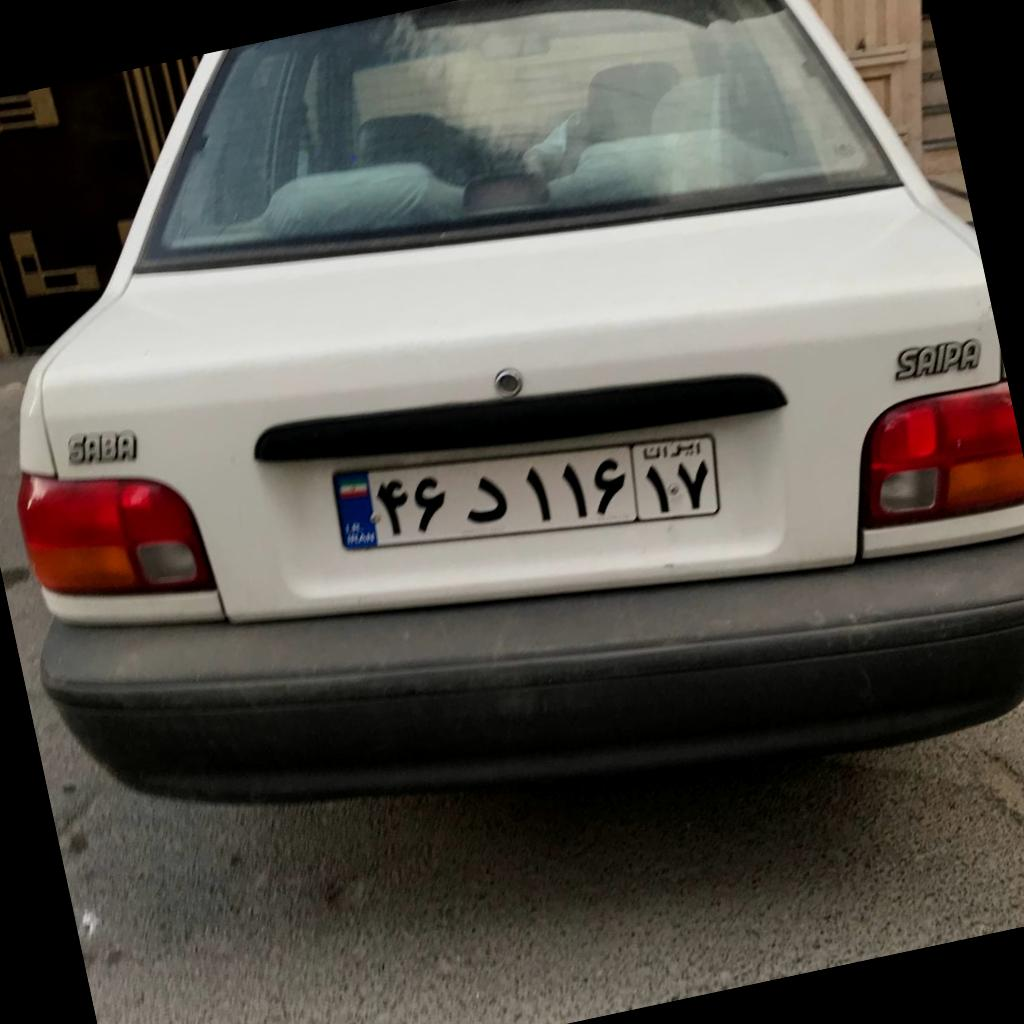Plates: (329, 437, 720, 550)
